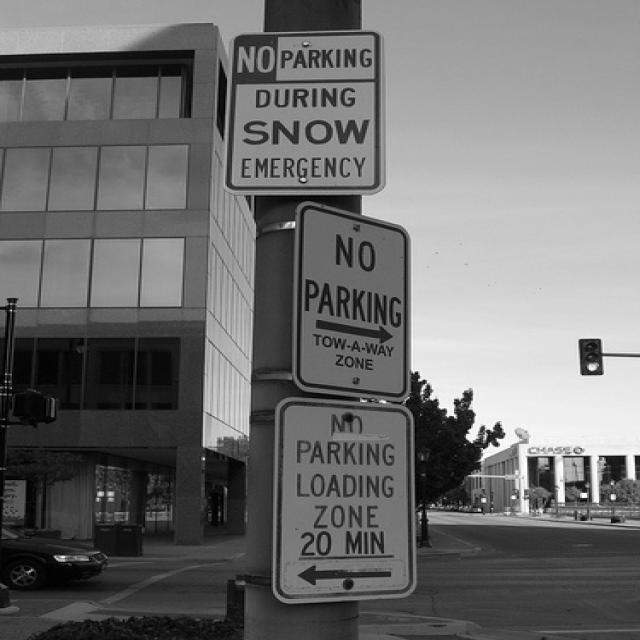car: (0, 522, 109, 593), (466, 502, 481, 511), (434, 503, 444, 508)
pole: (213, 1, 413, 639)
